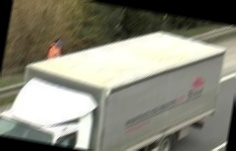truck: (0, 6, 227, 151)
